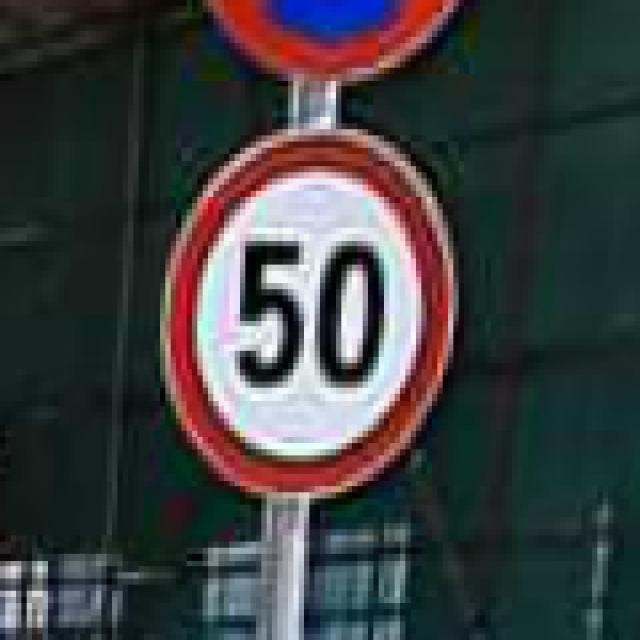speed limit 50: (163, 132, 458, 500)
